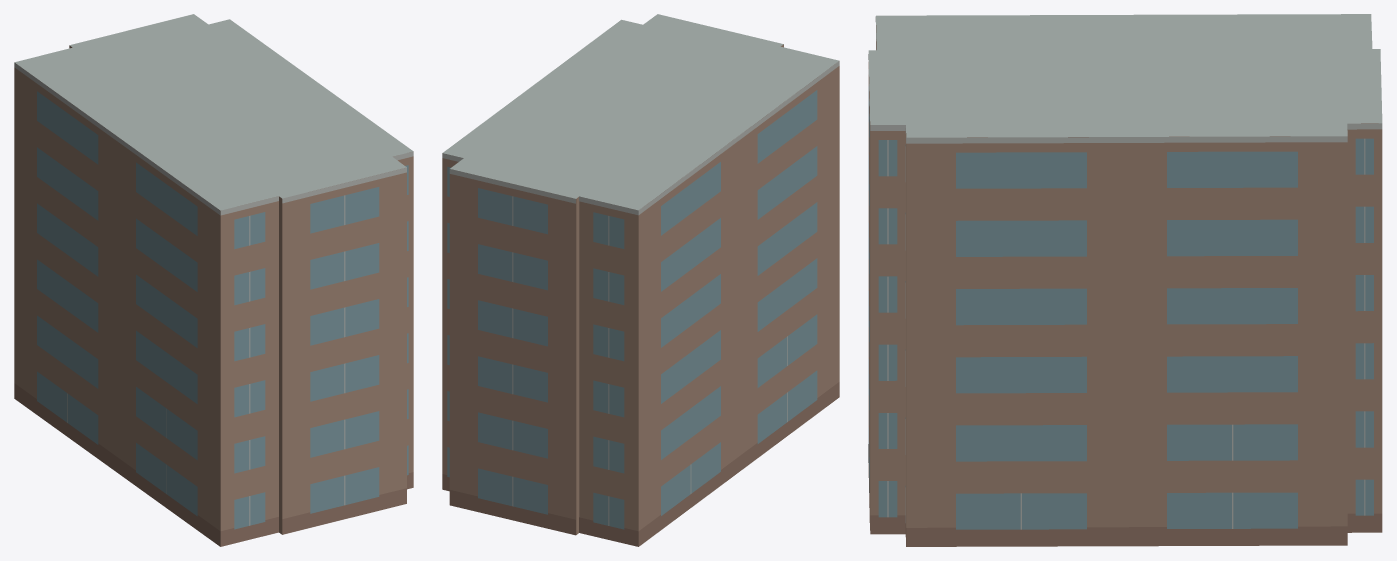
File: survey-upis-32982475.glb
3 views of the same model, side by side, from view 1: azimuth 30°, elevation 25°; view 2: azimuth 150°, elevation 25°; view 3: azimuth 270°, elevation 25° (orthographic). The views are drawn at different scales.
Visible parts, largest first — view 1: survey-upis-32982475.tmp; view 2: survey-upis-32982475.tmp; view 3: survey-upis-32982475.tmp.
Part boxes in pixels (x1=…): survey-upis-32982475.tmp: x1=14, y1=14, x2=413, y2=546; survey-upis-32982475.tmp: x1=442, y1=14, x2=839, y2=546; survey-upis-32982475.tmp: x1=868, y1=14, x2=1382, y2=546.
Bounding box in the file's own units: 10.77 × 16.6 × 18.9.
